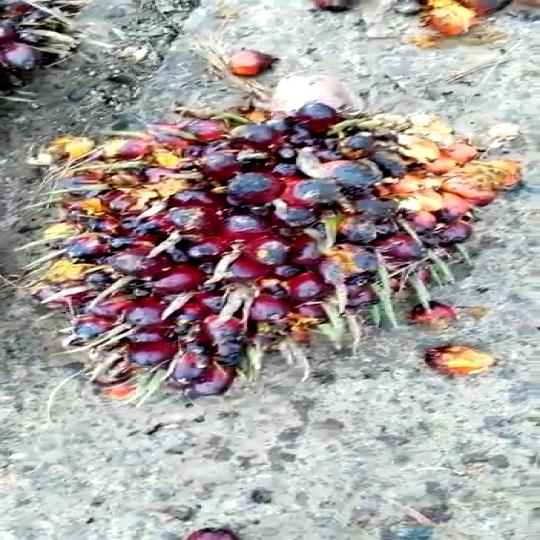masak: (28, 106, 540, 406)
